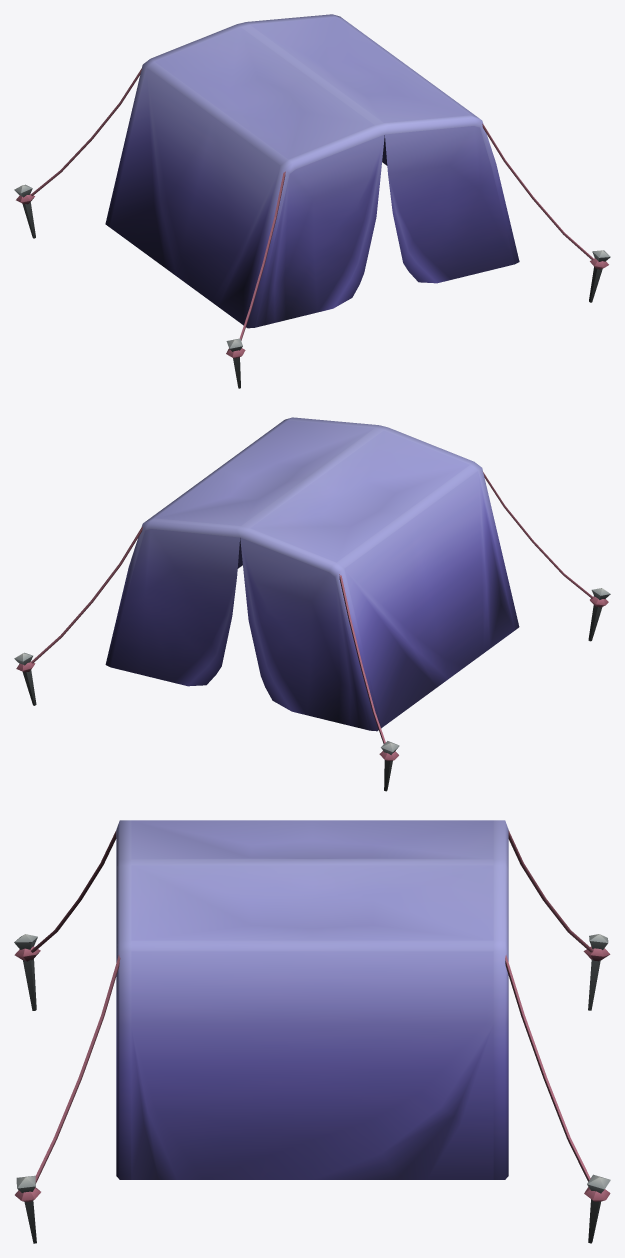
The model's file is Tent_1A.fbx.
The picture shows the model from 3 angles, top to bottom: view 1: azimuth 30°, elevation 25°; view 2: azimuth 150°, elevation 25°; view 3: azimuth 270°, elevation 25°; orthographic projection. The views are drawn at different scales.
Visible parts, largest first — view 1: Tent_1A; view 2: Tent_1A; view 3: Tent_1A.
Part boxes in pixels (x1=…): Tent_1A: x1=14, y1=14, x2=610, y2=388; Tent_1A: x1=14, y1=417, x2=610, y2=791; Tent_1A: x1=14, y1=820, x2=610, y2=1243.
Size of the model in its own units: 421 by 206 by 421.
